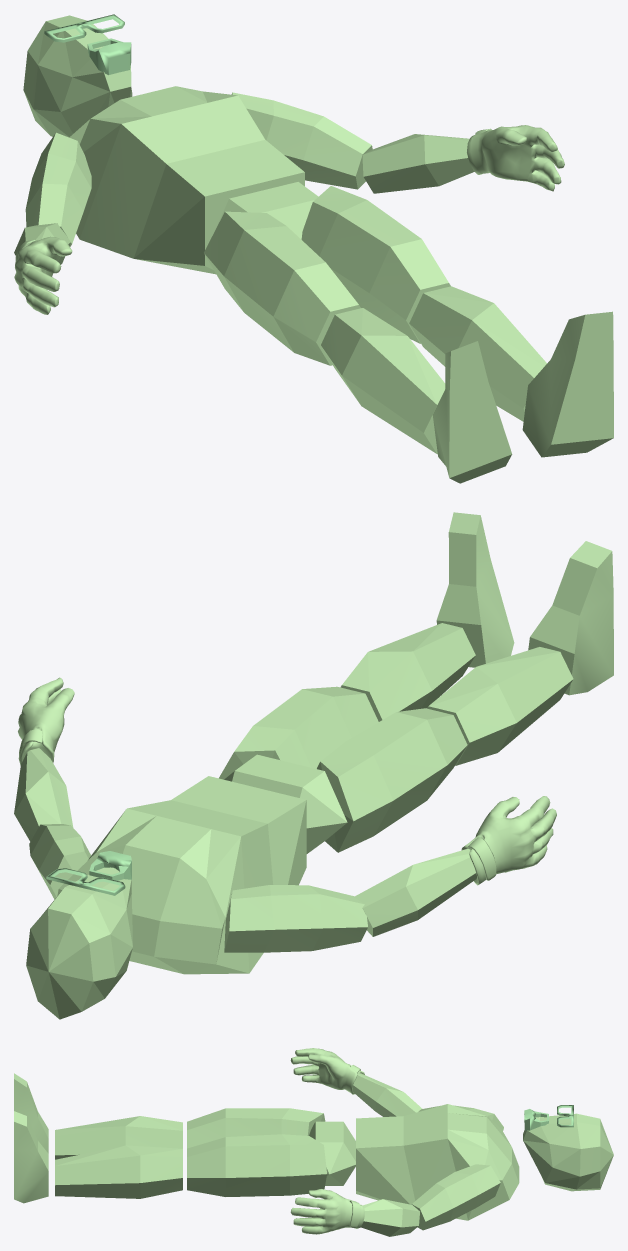
File: pl_start.fbx
3 views of the same model, one above another, from view 1: azimuth 30°, elevation 25°; view 2: azimuth 150°, elevation 25°; view 3: azimuth 270°, elevation 25° (orthographic). The views are drawn at different scales.
Visible parts, largest first — view 1: player_start_ctm_fbi, player_start_ctm_fbi_w_ct_base_glove; view 2: player_start_ctm_fbi, player_start_ctm_fbi_w_ct_base_glove; view 3: player_start_ctm_fbi, player_start_ctm_fbi_w_ct_base_glove.
Boxes of the visible parts, <box> form: player_start_ctm_fbi: <box>14,14,613,483</box>; player_start_ctm_fbi_w_ct_base_glove: <box>14,125,564,314</box>; player_start_ctm_fbi: <box>14,512,613,1019</box>; player_start_ctm_fbi_w_ct_base_glove: <box>18,677,556,885</box>; player_start_ctm_fbi: <box>14,1073,613,1236</box>; player_start_ctm_fbi_w_ct_base_glove: <box>290,1048,364,1234</box>.
Bounding box in the file's own units: 4856 × 1495 × 7816.
